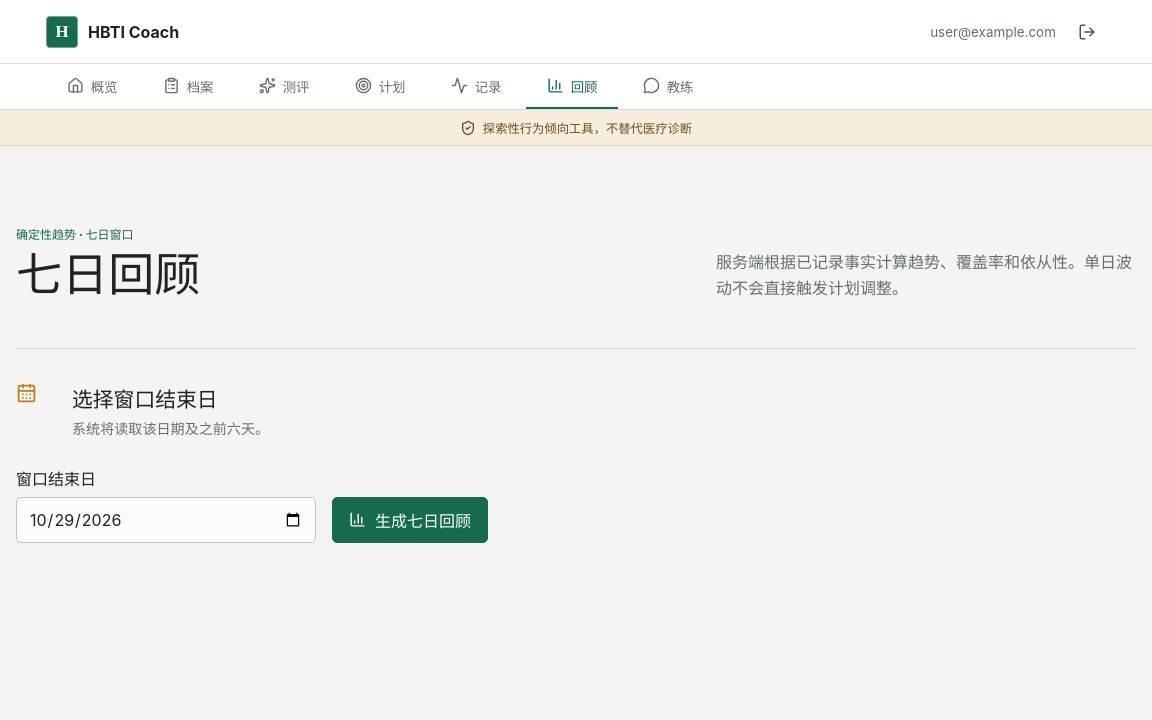
Test: account experience › renders a sparse weekly review as a proposal that does not change the plan
The width and height of the screenshot is (1152, 720).
Check: the heading "七日回顾" is shown, box [16,250,200,301]
Click the button "生成七日回顾" at (410, 520), box [332,497,488,543]
(page scrolled)
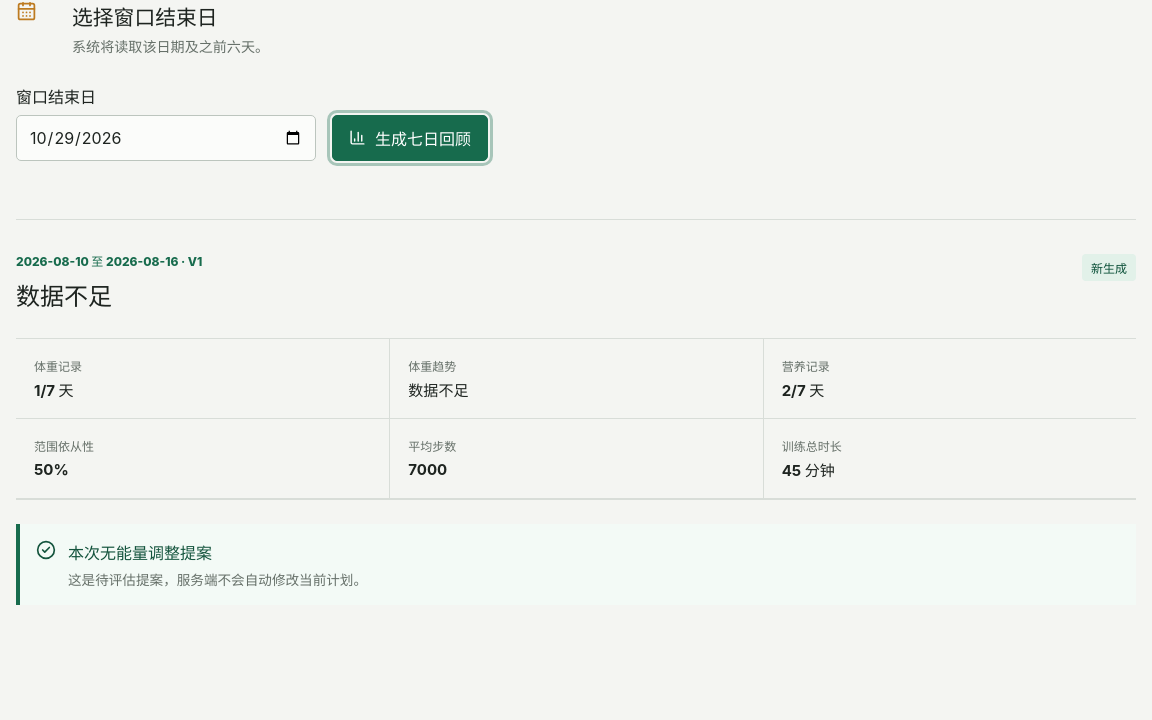
Check: the heading "数据不足" is shown, box [16,282,112,311]
Check: the text "这是待评估提案，服务端不会自动修改当前计划。" is shown, box [68,569,367,589]
